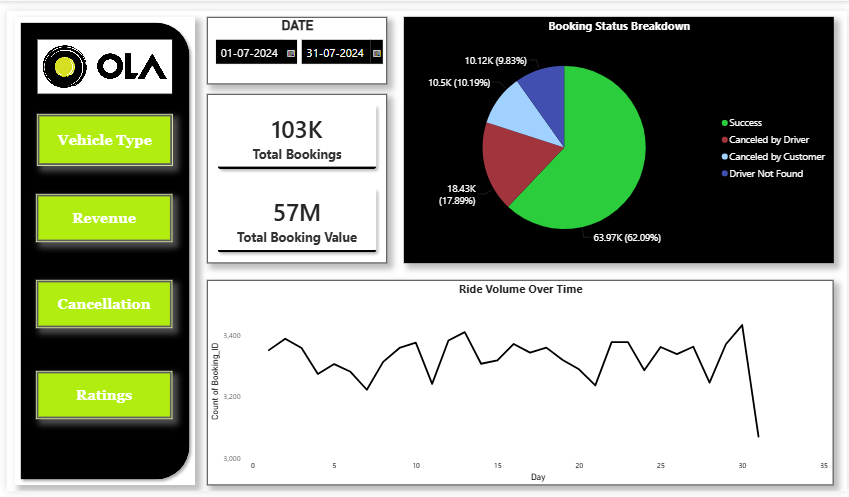

What the dashboard file says about the page in this screenshot:
{"tool":"powerbi","page":{"name":"Overall","canvas":[1280,720],"ordinal":1},"visuals":[{"type":"lineChart","title":"Booking Over Time","fields":{"Y":["CountNonNull(Bengaluru_Ola_Booking_Data.Booking ID)"],"Category":["Bengaluru_Ola_Booking_Data.Date"]},"box":[325.7,338.6,954.3,357.1],"z":0},{"type":"pieChart","title":"Booking Status Breakdown","fields":{"Y":["CountNonNull(Bengaluru_Ola_Booking_Data.Booking Status)"],"Category":["Bengaluru_Ola_Booking_Data.Booking Status"]},"box":[619.2,10.1,653.8,316.8],"z":1000},{"type":"slicer","title":"Date","fields":{"Values":["Bengaluru_Ola_Booking_Data.Date"]},"box":[337.1,11.4,277.1,104.3],"z":2000},{"type":"card","title":"Total Booking","fields":{"Values":["Count(Bengaluru_Ola_Booking_Data.Booking ID)"]},"box":[335.7,122.9,277.1,91.4],"z":3000},{"type":"card","title":"Total Booking Values","fields":{"Values":["Sum(Bengaluru_Ola_Booking_Data.Booking Value)"]},"box":[335.7,227.1,277.1,91.4],"z":4000},{"type":"actionButton","box":[0,108,323,92.2],"z":5000},{"type":"actionButton","box":[0,226.9,323,91],"z":6000},{"type":"actionButton","box":[0,338.6,325.7,91.4],"z":7000},{"type":"actionButton","box":[0,450,325.7,102.9],"z":8000},{"type":"actionButton","box":[0,338.6,322,91.4],"z":9000},{"type":"actionButton","box":[0,450,323,102.9],"z":10000},{"type":"actionButton","box":[0,577.1,323,91.4],"z":11000}]}

Visuals, with their boxes on the page's 1280x720 design canvas (x1, y1, x2, y2). These are canvas units, not pixel positions in the 849x497 screenshot, which may show the page scaled, cropped or inside an application window:
"Booking Over Time" lineChart: {"x1": 326, "y1": 339, "x2": 1280, "y2": 696}
"Booking Status Breakdown" pieChart: {"x1": 619, "y1": 10, "x2": 1273, "y2": 327}
"Date" slicer: {"x1": 337, "y1": 11, "x2": 614, "y2": 116}
"Total Booking" card: {"x1": 336, "y1": 123, "x2": 613, "y2": 214}
"Total Booking Values" card: {"x1": 336, "y1": 227, "x2": 613, "y2": 318}
actionButton: {"x1": 0, "y1": 108, "x2": 323, "y2": 200}
actionButton: {"x1": 0, "y1": 227, "x2": 323, "y2": 318}
actionButton: {"x1": 0, "y1": 339, "x2": 326, "y2": 430}
actionButton: {"x1": 0, "y1": 450, "x2": 326, "y2": 553}
actionButton: {"x1": 0, "y1": 339, "x2": 322, "y2": 430}
actionButton: {"x1": 0, "y1": 450, "x2": 323, "y2": 553}
actionButton: {"x1": 0, "y1": 577, "x2": 323, "y2": 668}
